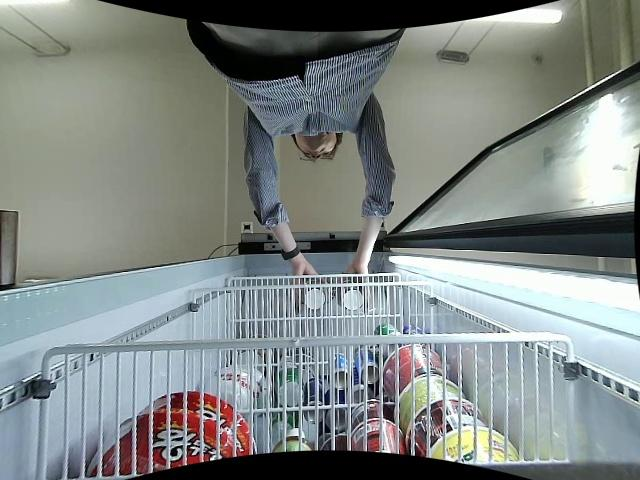00_hand: (339, 268, 371, 300), (293, 266, 320, 293)
